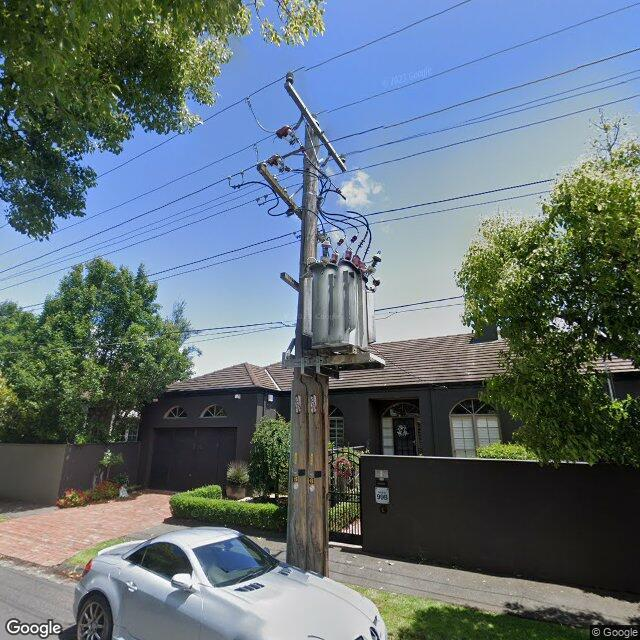HV-transmission: (285, 71, 349, 172)
crossarm: (285, 82, 347, 172), (228, 162, 302, 218)
timber-pole: (285, 114, 329, 578), (279, 270, 300, 292)
transformer: (302, 234, 384, 354)
